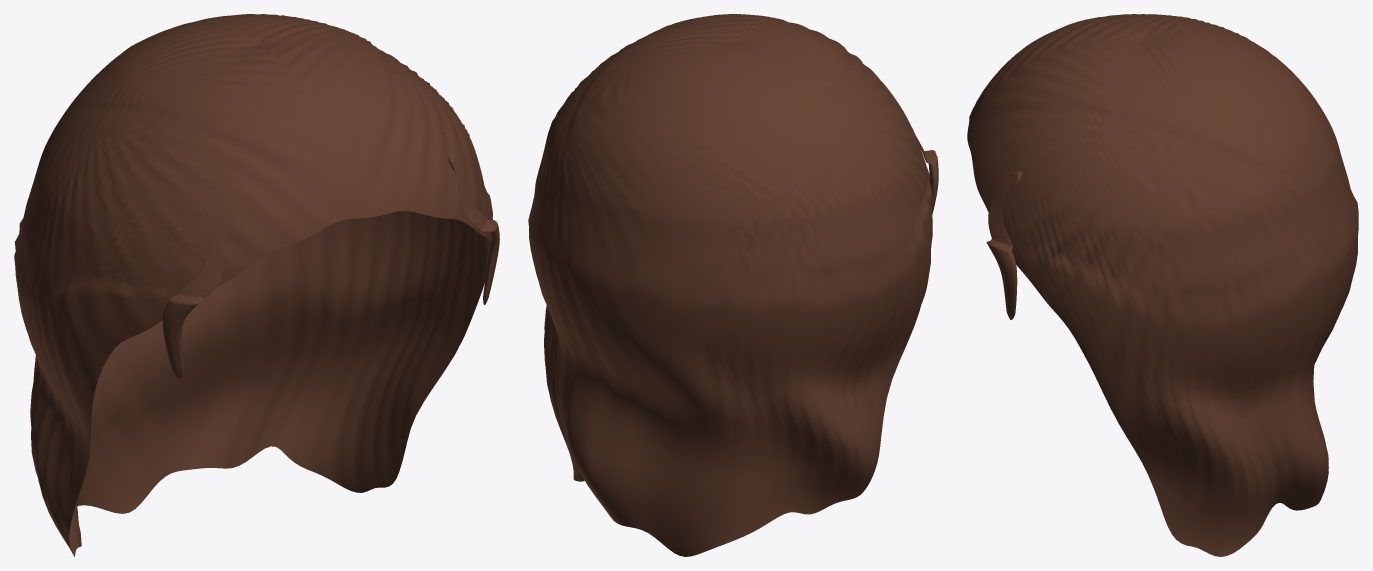
The model's file is space-buns-beanie.glb.
3 renders of one model, left to right at view 1: azimuth 30°, elevation 25°; view 2: azimuth 150°, elevation 25°; view 3: azimuth 270°, elevation 25°, orthographic. The views are drawn at different scales.
Parts seen in each view (by area): view 1: 226 hair / Hair / chestnut226.002; view 2: 226 hair / Hair / chestnut226.002; view 3: 226 hair / Hair / chestnut226.002.
Boxes of the visible parts, left/top/right/bottom form: 226 hair / Hair / chestnut226.002: left=14, top=14, right=499, bottom=556; 226 hair / Hair / chestnut226.002: left=528, top=14, right=938, bottom=556; 226 hair / Hair / chestnut226.002: left=967, top=14, right=1358, bottom=556.
Size of the model in its own units: 0.8048 by 0.9707 by 0.7316.
